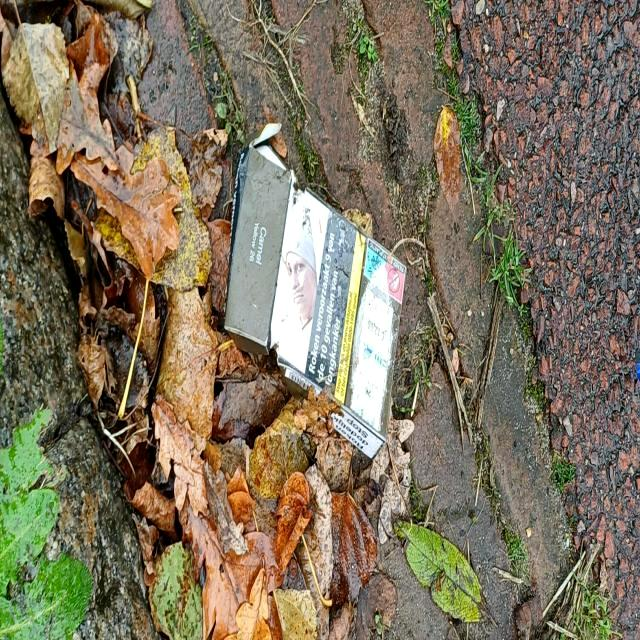Paper: (221, 115, 407, 465)
